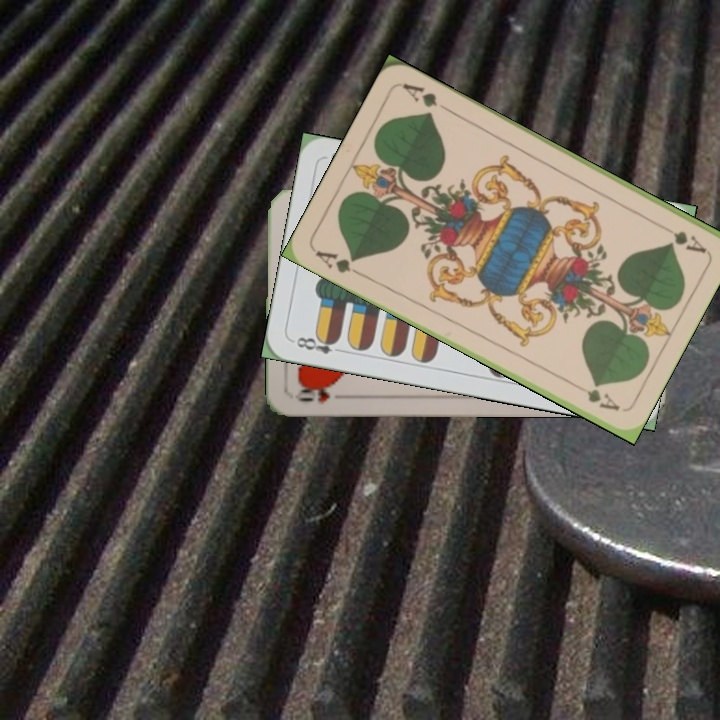E8: (292, 331, 348, 357)
GA: (654, 219, 709, 256), (311, 246, 367, 280)
HO: (291, 381, 338, 406)
